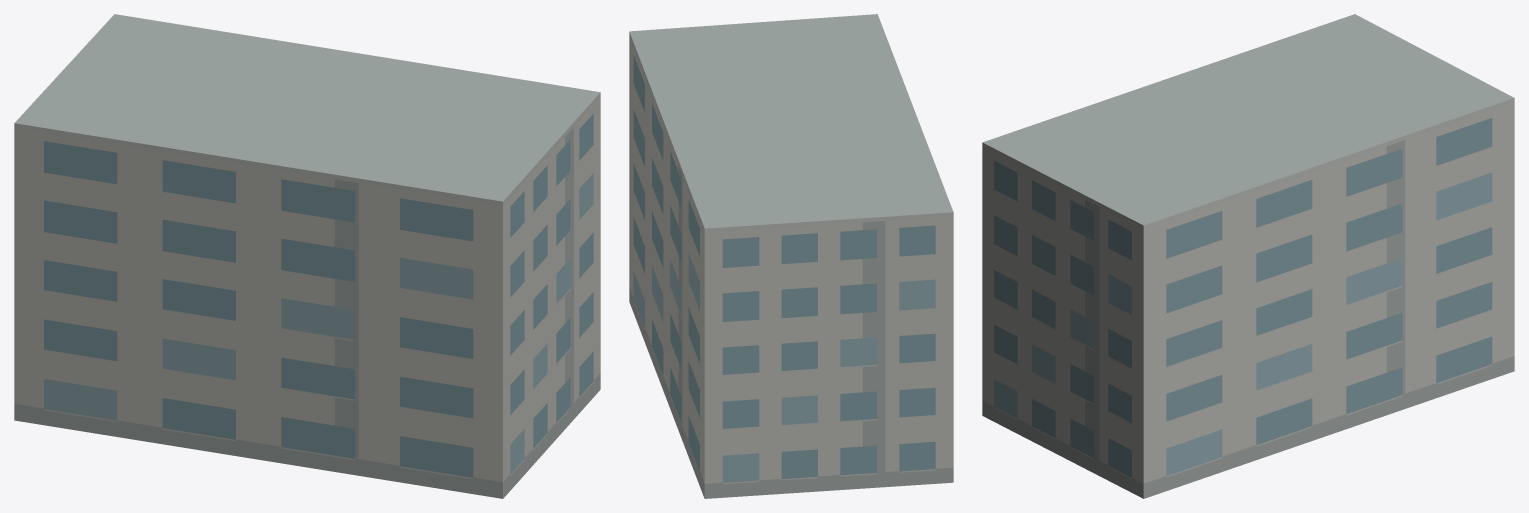
The model's file is survey-upis-32725021.glb.
3 views of the same model, side by side, from view 1: azimuth 30°, elevation 25°; view 2: azimuth 150°, elevation 25°; view 3: azimuth 270°, elevation 25° (orthographic). The views are drawn at different scales.
Visible parts, largest first — view 1: survey-upis-32725021.tmp; view 2: survey-upis-32725021.tmp; view 3: survey-upis-32725021.tmp.
Boxes of the visible parts, box(x1,y1,x2,y2) form: survey-upis-32725021.tmp: box(14, 14, 600, 498); survey-upis-32725021.tmp: box(629, 14, 953, 498); survey-upis-32725021.tmp: box(982, 14, 1514, 498).
Bounding box in the file's own units: 25.32 × 15.25 × 26.92.
